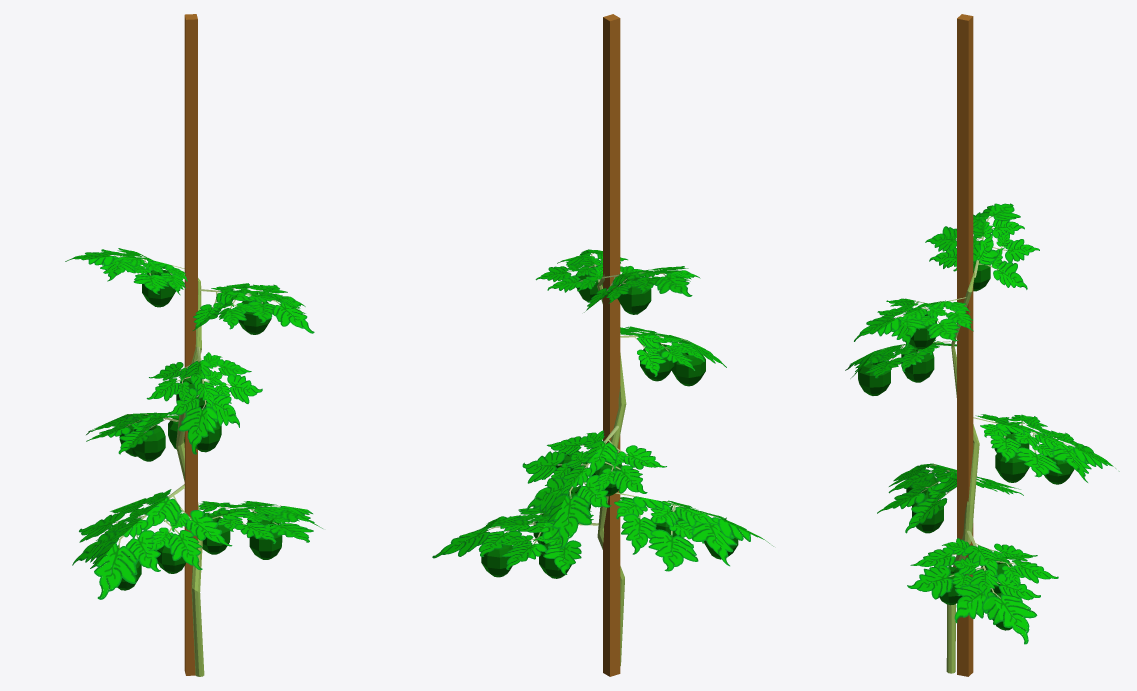
Rendered from TomateF2.glb.
3 views of the same model, side by side, from view 1: azimuth 30°, elevation 25°; view 2: azimuth 150°, elevation 25°; view 3: azimuth 270°, elevation 25° (orthographic).
Visible parts, largest first — view 1: TomateF2; view 2: TomateF2; view 3: TomateF2.
Part boxes in pixels (bbox=[...]): TomateF2: bbox=[65, 14, 322, 676]; TomateF2: bbox=[432, 14, 773, 676]; TomateF2: bbox=[845, 14, 1119, 676].
Bounding box in the file's own units: 0.644 × 1.21 × 0.5186.
Materials: 1 (1 with a texture image).
